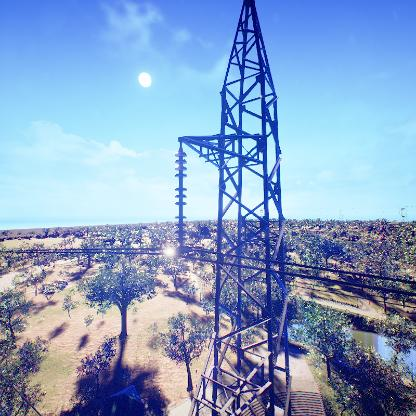insulator: (172, 149, 189, 244)
